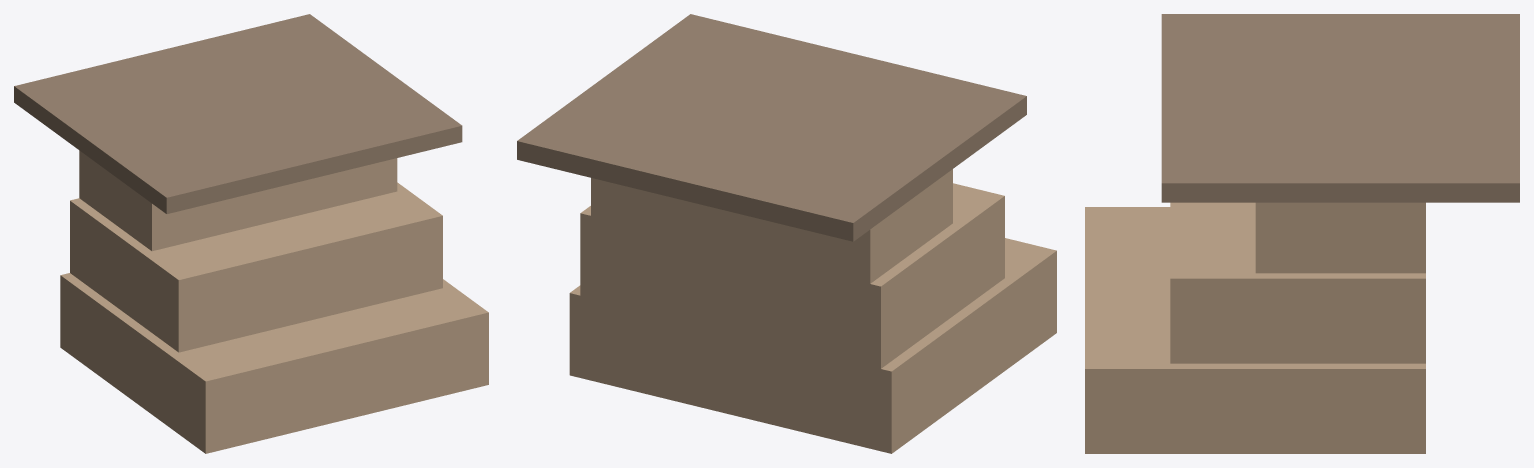
The model's file is mounting-block.glb.
3 renders of one model, left to right at view 1: azimuth 30°, elevation 25°; view 2: azimuth 150°, elevation 25°; view 3: azimuth 270°, elevation 25°, orthographic. The views are drawn at different scales.
Visible parts, largest first — view 1: mounting-block; view 2: mounting-block; view 3: mounting-block.
Part boxes in pixels (box(x1,y1,x2,y2)): mounting-block: box(14, 14, 488, 453); mounting-block: box(517, 14, 1056, 453); mounting-block: box(1085, 14, 1519, 453).
Bounding box in the file's own units: 0.94 × 0.71 × 1.02.
